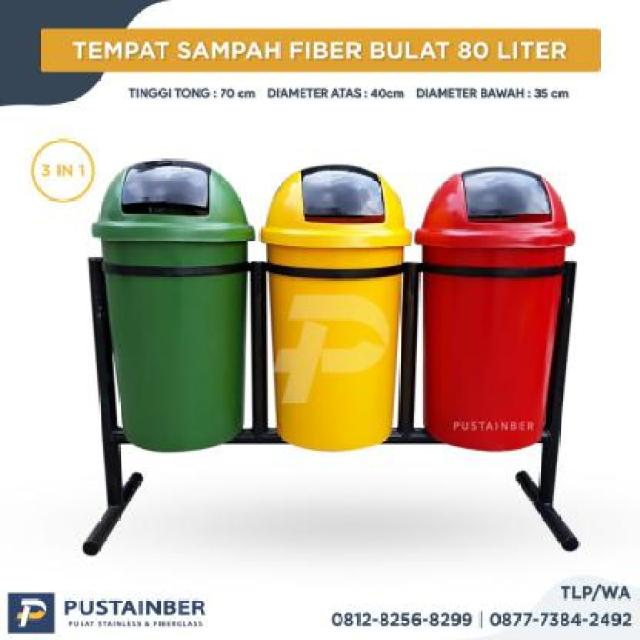garbage container: (85, 155, 260, 463), (412, 151, 578, 466), (253, 152, 412, 456)
